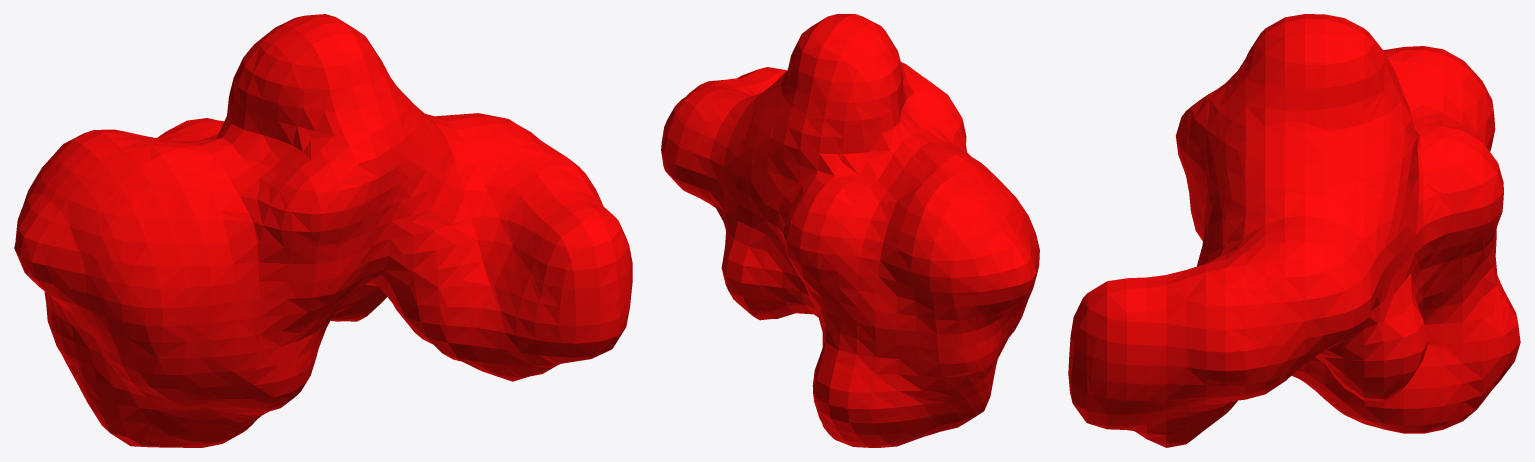
File: fur_coarse.dae
3 renders of one model, left to right at view 1: azimuth 30°, elevation 25°; view 2: azimuth 150°, elevation 25°; view 3: azimuth 270°, elevation 25°, orthographic. The views are drawn at different scales.
Parts seen in each view (by area): view 1: fur; view 2: fur; view 3: fur.
Part boxes in pixels (left/top/right/bottom): fur: left=14, top=14, right=632, bottom=447; fur: left=661, top=14, right=1039, bottom=447; fur: left=1068, top=14, right=1520, bottom=447.
Size of the model in its own units: 56.16 by 46.6 by 42.66.
